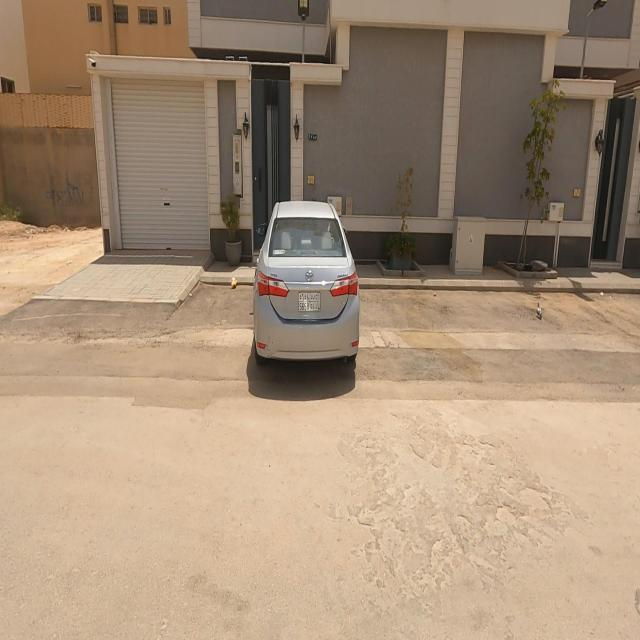Graffiti: (46, 183, 89, 214)
